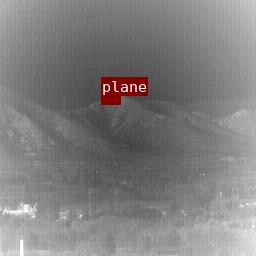plane: (101, 96, 120, 104)
